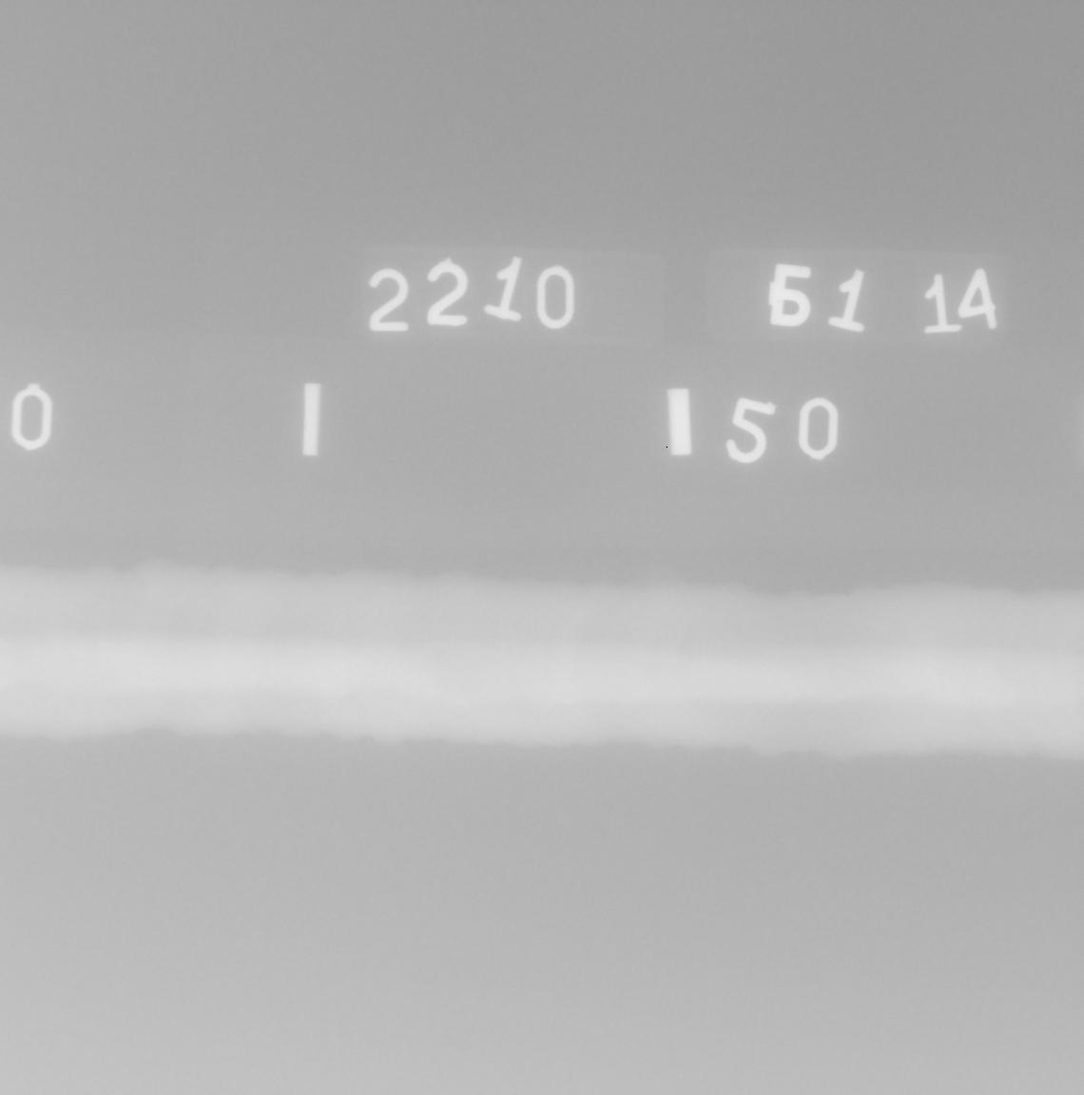Pore/Porosity: (347, 668, 353, 672)
